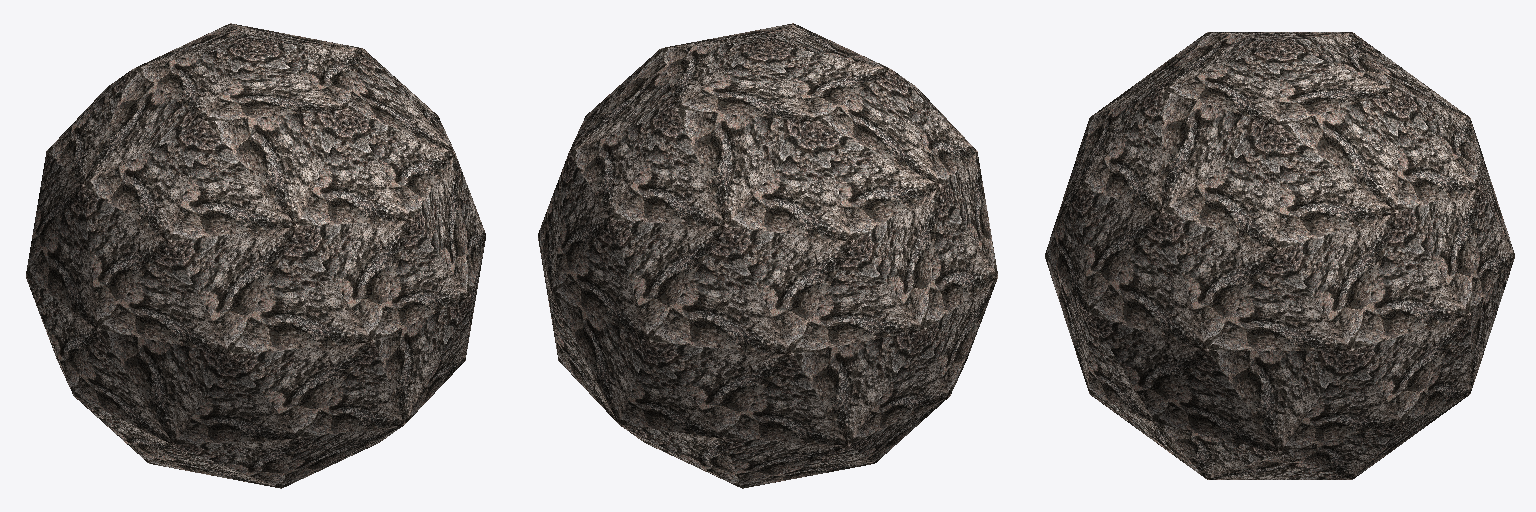
The picture shows the model from 3 angles: view 1: azimuth 30°, elevation 25°; view 2: azimuth 150°, elevation 25°; view 3: azimuth 270°, elevation 25°; orthographic projection.
Parts seen in each view (by area): view 1: Icosphere; view 2: Icosphere; view 3: Icosphere.
Part boxes in pixels (bbox=[...]): Icosphere: bbox=[26, 23, 485, 488]; Icosphere: bbox=[538, 23, 997, 488]; Icosphere: bbox=[1045, 32, 1514, 479].
Bounding box in the file's own units: 1.9 × 2 × 2.
Materials: 1 (1 with a texture image).